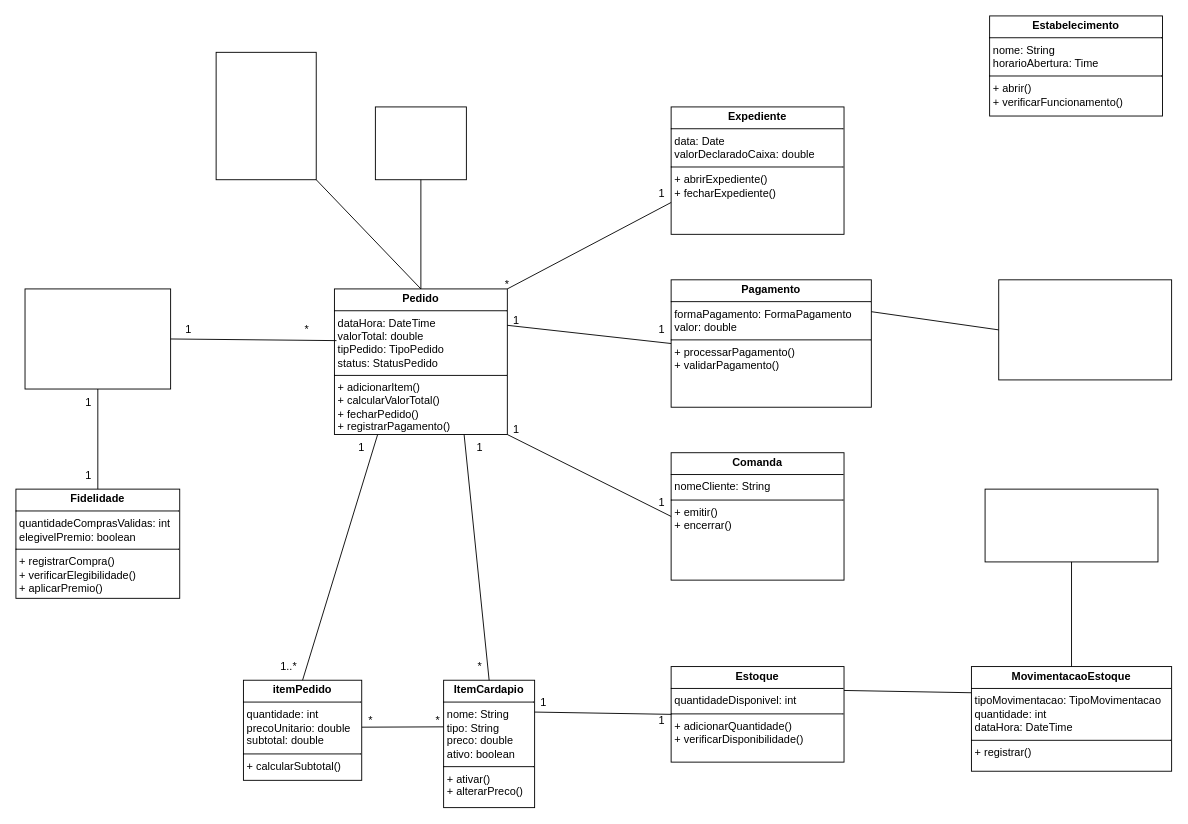
Image size: 1188x824. Some labels were removed from this diagram. Here are the shapes that lost their labels. From the top down, the centre of each, then its label:
At [265,115]: "<<enumeration>> StatusPedido ABERTO PAGO CONCLUIDO CANCELADO ENTREGUE".
At [420,143]: "<<enumeration>> TipoPedido BALCAO RESERVA".
At [97,338]: "Cliente nome: String cpf: String + atualizarDados() + ConsultarFidelidade()".
At [1085,329]: "<<enumeration>> FormaPagamento DINHEIRO PIX CREDITO DEBITO".
At [1071,525]: "<<enumeration>> TipoMovimentacao ENTRADA SAIDA".
